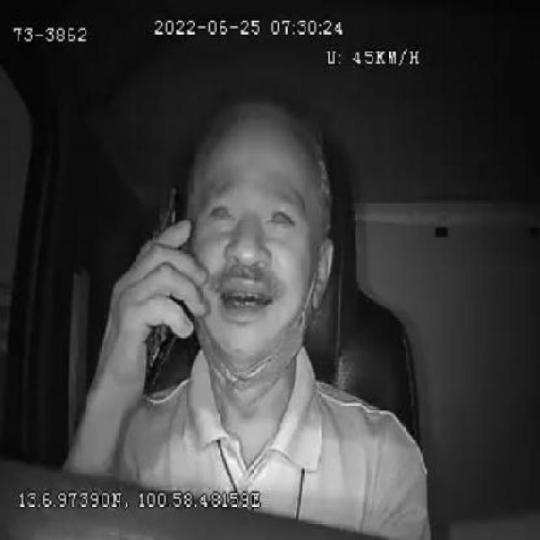phone: (140, 186, 188, 383)
